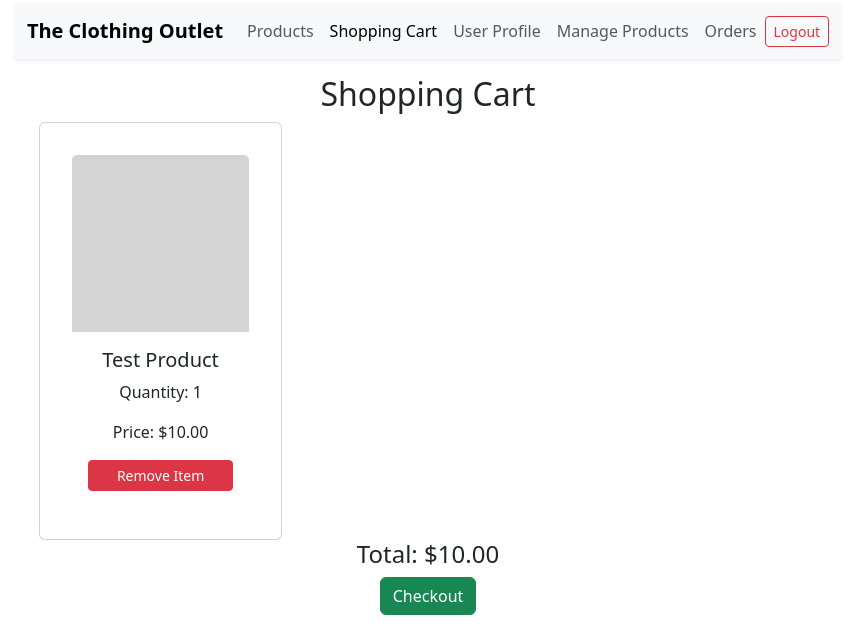
Cart functionality › removes an item from the cart when the remove button is clicked
expect the text "Test Product" is shown: met, box [102,346,219,373]
Click the button "Remove Item" at (161, 476), box [88,460,233,491]
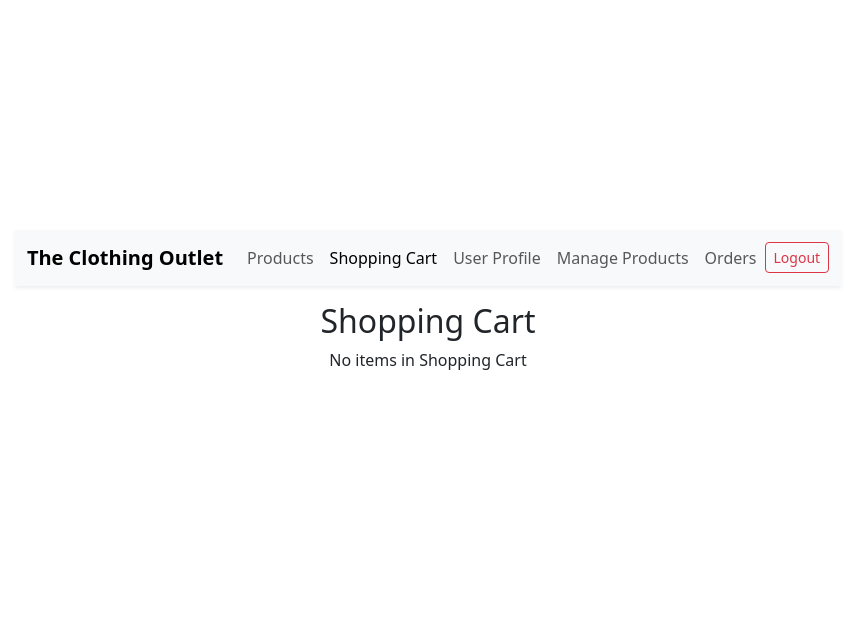
expect the text "Test Product" is gone: met
